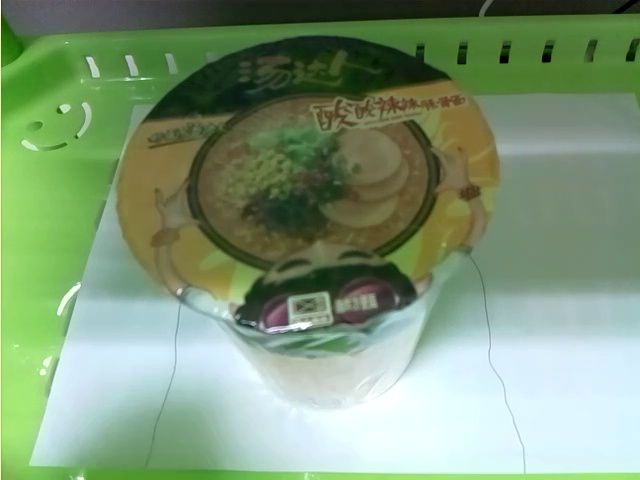noodles: (114, 30, 501, 415)
